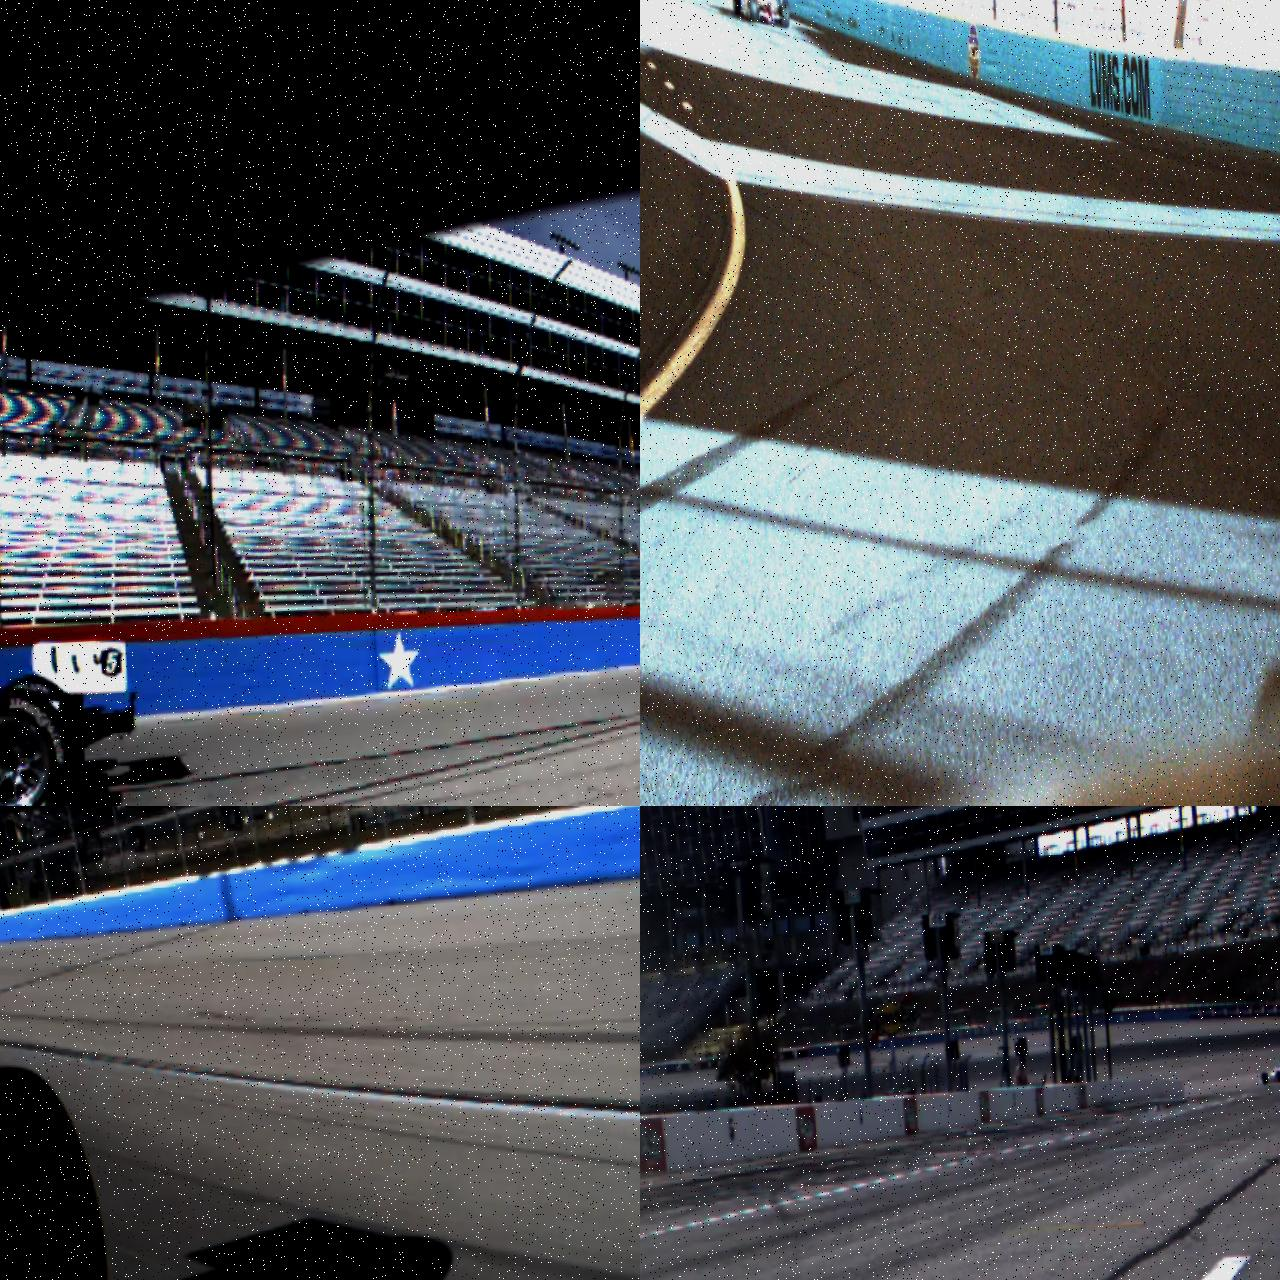AV: (730, 0, 790, 29), (1258, 1057, 1280, 1085)
Wheel: (0, 1057, 110, 1280), (0, 685, 70, 806), (745, 0, 758, 22), (779, 0, 790, 27), (731, 0, 740, 15), (1260, 1070, 1267, 1084), (1276, 1070, 1280, 1082)
